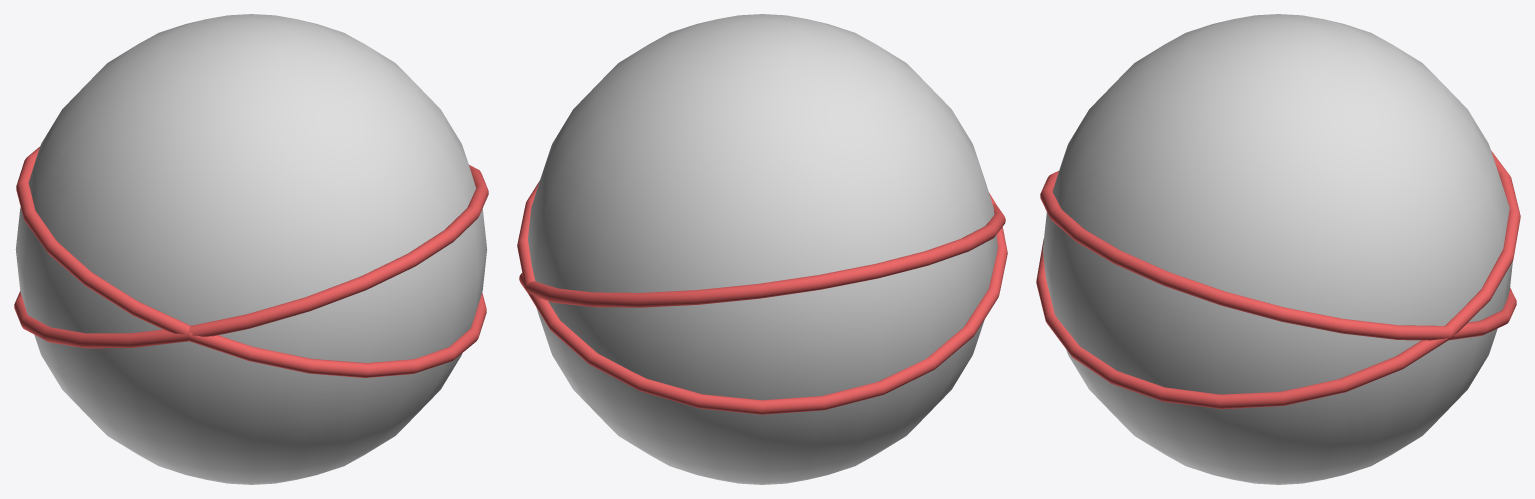
File: baseball.glb
The picture shows the model from 3 angles, left to right: view 1: azimuth 30°, elevation 25°; view 2: azimuth 150°, elevation 25°; view 3: azimuth 270°, elevation 25°; orthographic projection.
Parts seen in each view (by area): view 1: core, seam1, seam2; view 2: core, seam2, seam1; view 3: core, seam1, seam2.
Boxes of the visible parts, box(x1,y1,x2,y2) form: core: box(15, 14, 487, 484); seam1: box(16, 147, 486, 377); seam2: box(14, 165, 488, 348); core: box(528, 14, 997, 484); seam2: box(517, 181, 1007, 414); seam1: box(519, 204, 1005, 307); core: box(1042, 14, 1512, 484); seam1: box(1036, 150, 1520, 409); seam2: box(1040, 171, 1516, 340).
Size of the model in its own units: 1.15 by 1.12 by 1.15.
